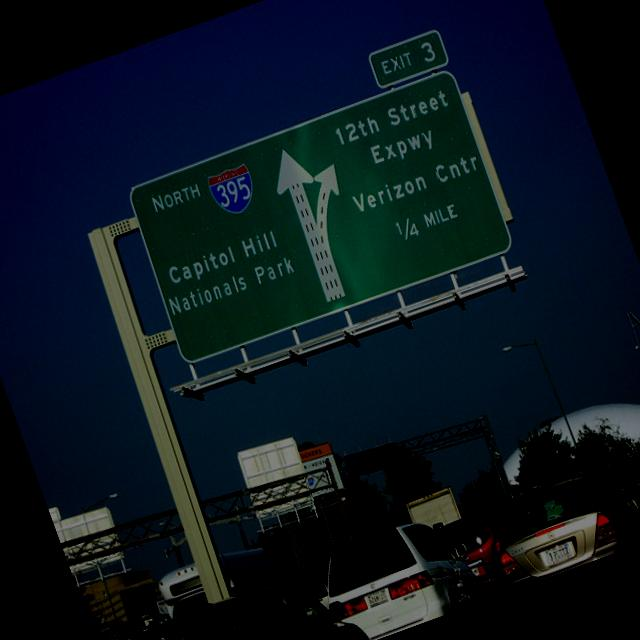Vehicle: (307, 500, 489, 640), (119, 554, 371, 640), (484, 456, 640, 586), (156, 537, 280, 620), (432, 502, 524, 606), (267, 558, 345, 628), (402, 485, 465, 538), (607, 452, 640, 546), (117, 614, 199, 640), (89, 616, 121, 640)
